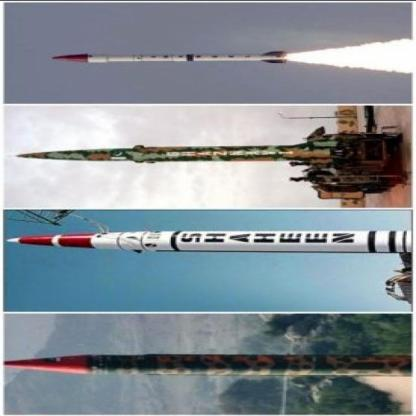MIL_TBM: (9, 350, 414, 378), (8, 227, 411, 253), (16, 136, 336, 166), (46, 44, 288, 68)
